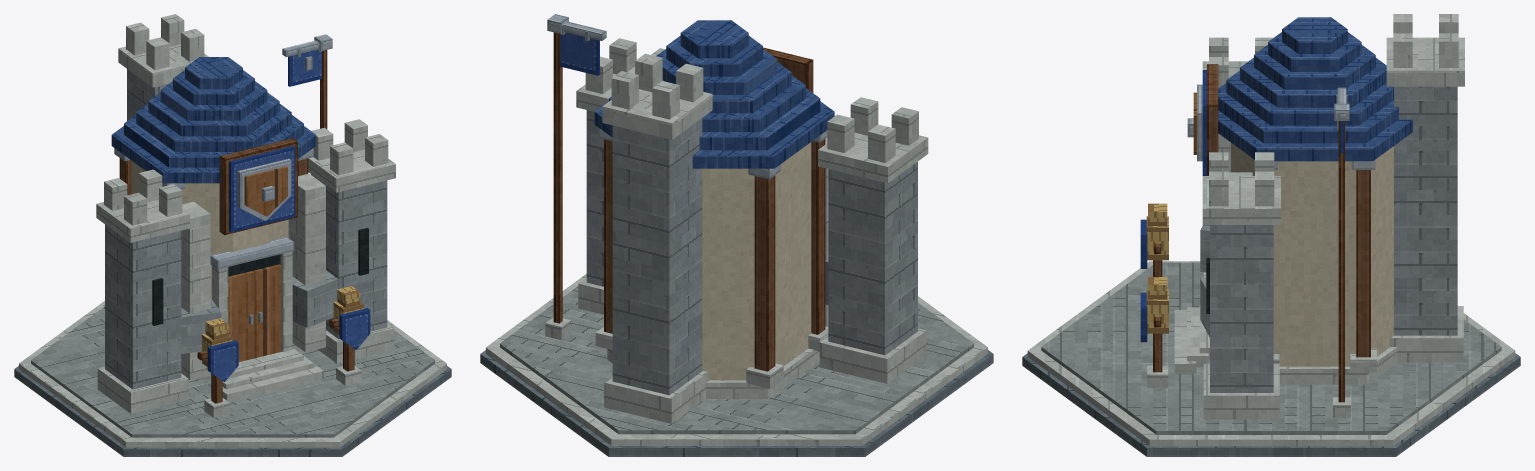
File: guardian_mastery_hex_v1.glb
The picture shows the model from 3 angles, left to right: view 1: azimuth 30°, elevation 25°; view 2: azimuth 150°, elevation 25°; view 3: azimuth 270°, elevation 25°; orthographic projection. The views are drawn at different scales.
Visible parts, largest first — view 1: Guardian_Mastery_Hex_V1_Focus, Guardian_Mastery_Hex_V1_Foundation, Guardian_Mastery_Hex_V1_Hall, Guardian_Mastery_Hex_V1_Roofs, Guardian_Mastery_Hex_V1_Faction, Guardian_Mastery_Hex_V1_Training, Guardian_Mastery_Hex_V1_Courtyard, Guardian_Mastery_Hex_V1_Details; view 2: Guardian_Mastery_Hex_V1_Focus, Guardian_Mastery_Hex_V1_Foundation, Guardian_Mastery_Hex_V1_Hall, Guardian_Mastery_Hex_V1_Roofs, Guardian_Mastery_Hex_V1_Faction; view 3: Guardian_Mastery_Hex_V1_Focus, Guardian_Mastery_Hex_V1_Foundation, Guardian_Mastery_Hex_V1_Hall, Guardian_Mastery_Hex_V1_Roofs, Guardian_Mastery_Hex_V1_Faction, Guardian_Mastery_Hex_V1_Training, Guardian_Mastery_Hex_V1_Courtyard.
Part boxes in pixels (bbox=[...]): Guardian_Mastery_Hex_V1_Focus: bbox=[96, 14, 395, 413]; Guardian_Mastery_Hex_V1_Foundation: bbox=[14, 301, 451, 456]; Guardian_Mastery_Hex_V1_Hall: bbox=[114, 148, 338, 380]; Guardian_Mastery_Hex_V1_Roofs: bbox=[111, 57, 316, 183]; Guardian_Mastery_Hex_V1_Faction: bbox=[219, 34, 332, 235]; Guardian_Mastery_Hex_V1_Training: bbox=[197, 286, 370, 417]; Guardian_Mastery_Hex_V1_Courtyard: bbox=[222, 349, 323, 402]; Guardian_Mastery_Hex_V1_Details: bbox=[152, 228, 368, 325]; Guardian_Mastery_Hex_V1_Focus: bbox=[576, 38, 928, 423]; Guardian_Mastery_Hex_V1_Foundation: bbox=[480, 274, 993, 456]; Guardian_Mastery_Hex_V1_Hall: bbox=[595, 127, 828, 398]; Guardian_Mastery_Hex_V1_Roofs: bbox=[594, 20, 834, 168]; Guardian_Mastery_Hex_V1_Faction: bbox=[545, 14, 813, 340]; Guardian_Mastery_Hex_V1_Focus: bbox=[1202, 14, 1464, 419]; Guardian_Mastery_Hex_V1_Foundation: bbox=[1022, 261, 1520, 456]; Guardian_Mastery_Hex_V1_Hall: bbox=[1200, 133, 1397, 384]; Guardian_Mastery_Hex_V1_Roofs: bbox=[1218, 17, 1412, 161]; Guardian_Mastery_Hex_V1_Faction: bbox=[1187, 64, 1350, 417]; Guardian_Mastery_Hex_V1_Training: bbox=[1140, 203, 1168, 387]; Guardian_Mastery_Hex_V1_Courtyard: bbox=[1174, 304, 1209, 373].
Bounding box in the file's own units: 1.59 × 1.38 × 1.84.
1 material, 1 textured.
